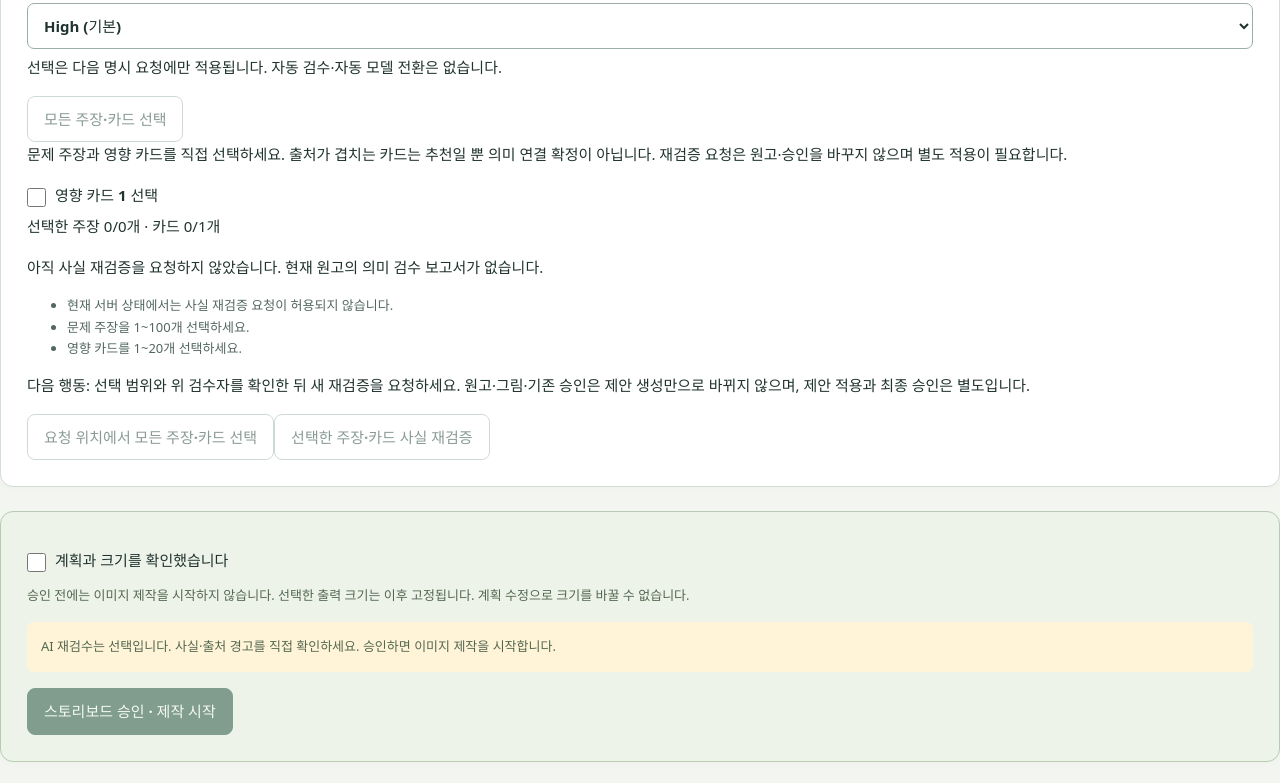
Test: 계획 초안은 제작 승인을 막으며 크기 변경을 잘못 안내하지 않는다
(page scrolled)
Step 1. Click the checkbox labelled "계획과 크기를 확인했습니다" → (36, 562), box [27,553,46,572]
(page scrolled)
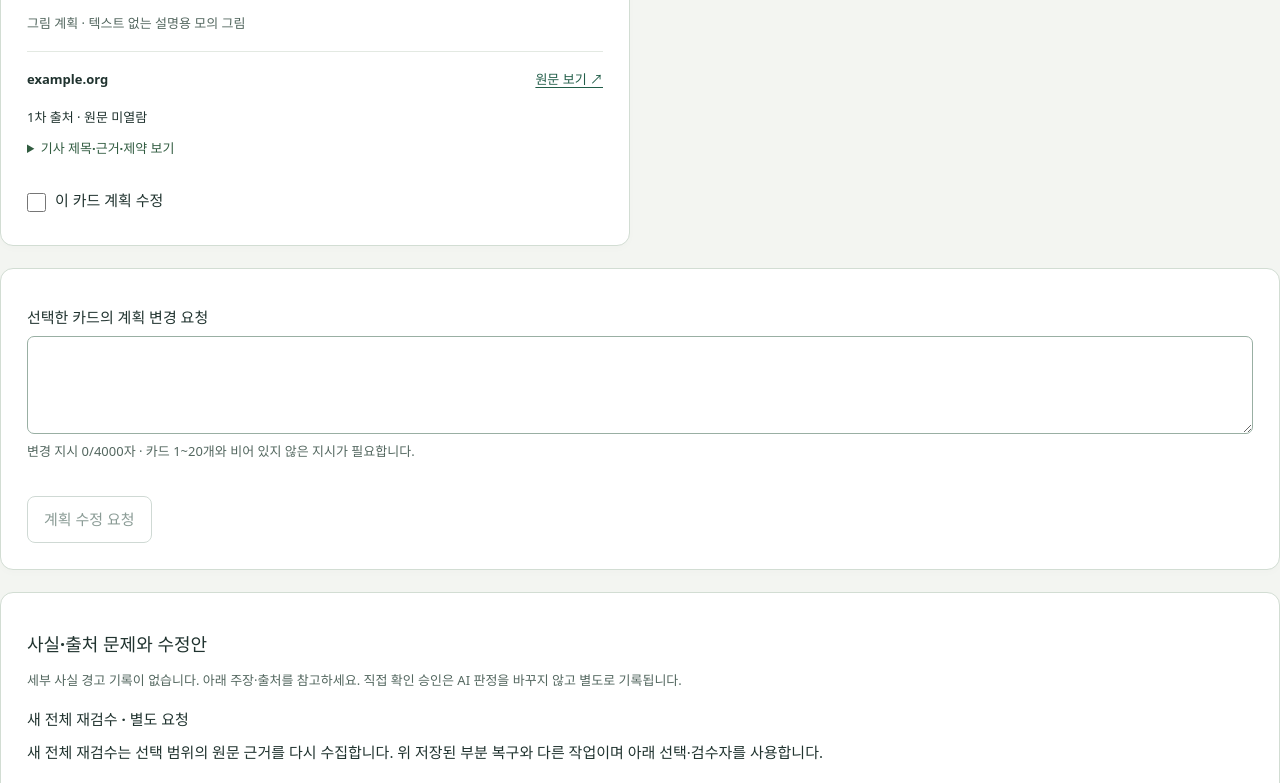
Step 2. Type "계획 초안" into the text box labelled "선택한 카드의 계획 변경 요청" → (640, 385), box [27,336,1253,434]
(page scrolled)
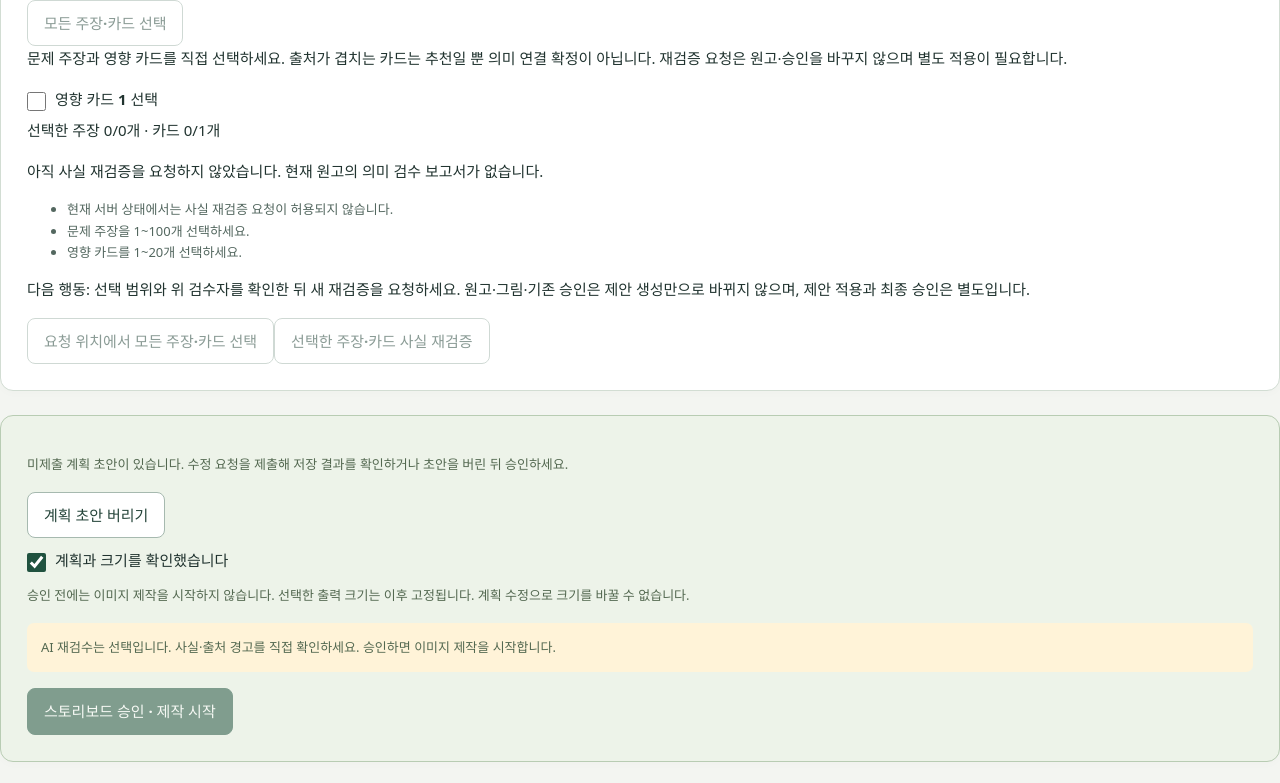
Check: the button "스토리보드 승인 · 제작 시작" is disabled, box [27,688,233,735]
Check: the text "미제출 계획 초안이 있습니다. 수정 요청을 제출해 저장 결과를 확인하거나 초안을 버린 뒤 승인하세요." is shown, box [27,455,568,473]
Step 3. Click the button "계획 초안 버리기" → (96, 515), box [27,492,165,538]
(page scrolled)
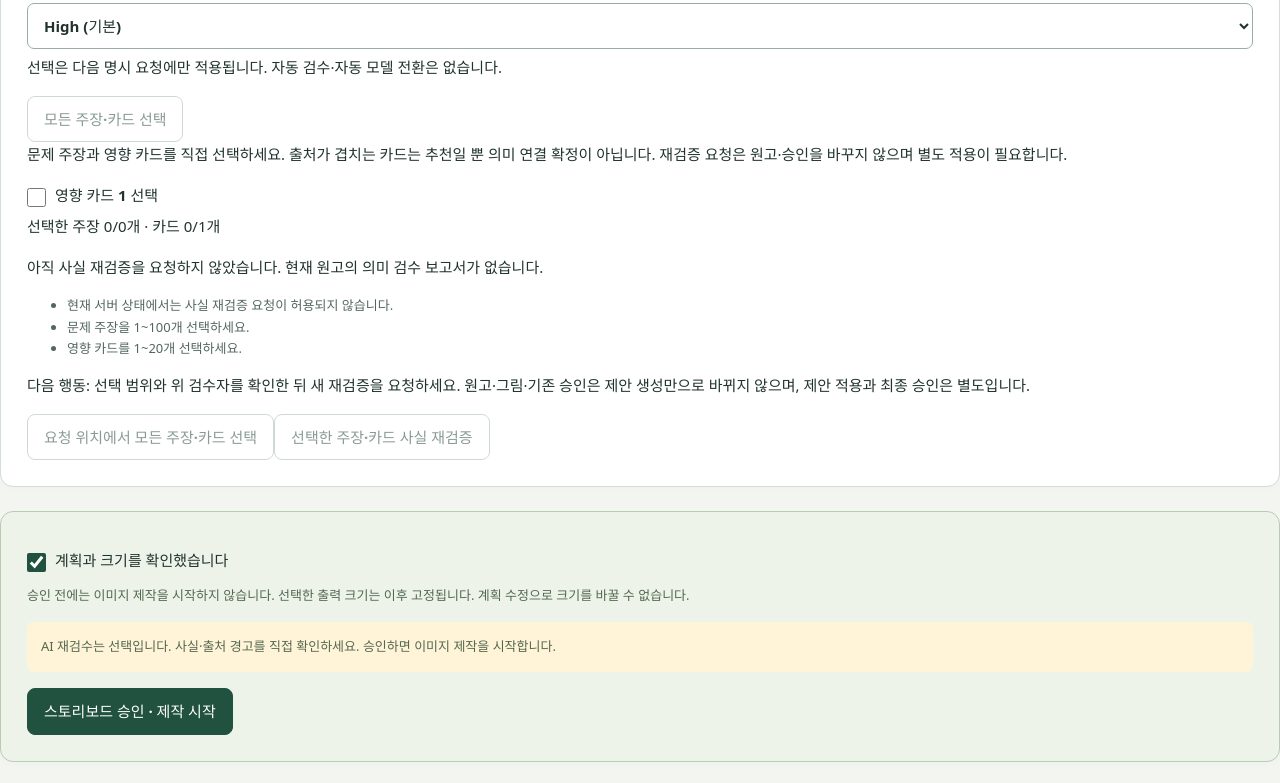
Check: the button "스토리보드 승인 · 제작 시작" is enabled, box [27,688,233,735]
